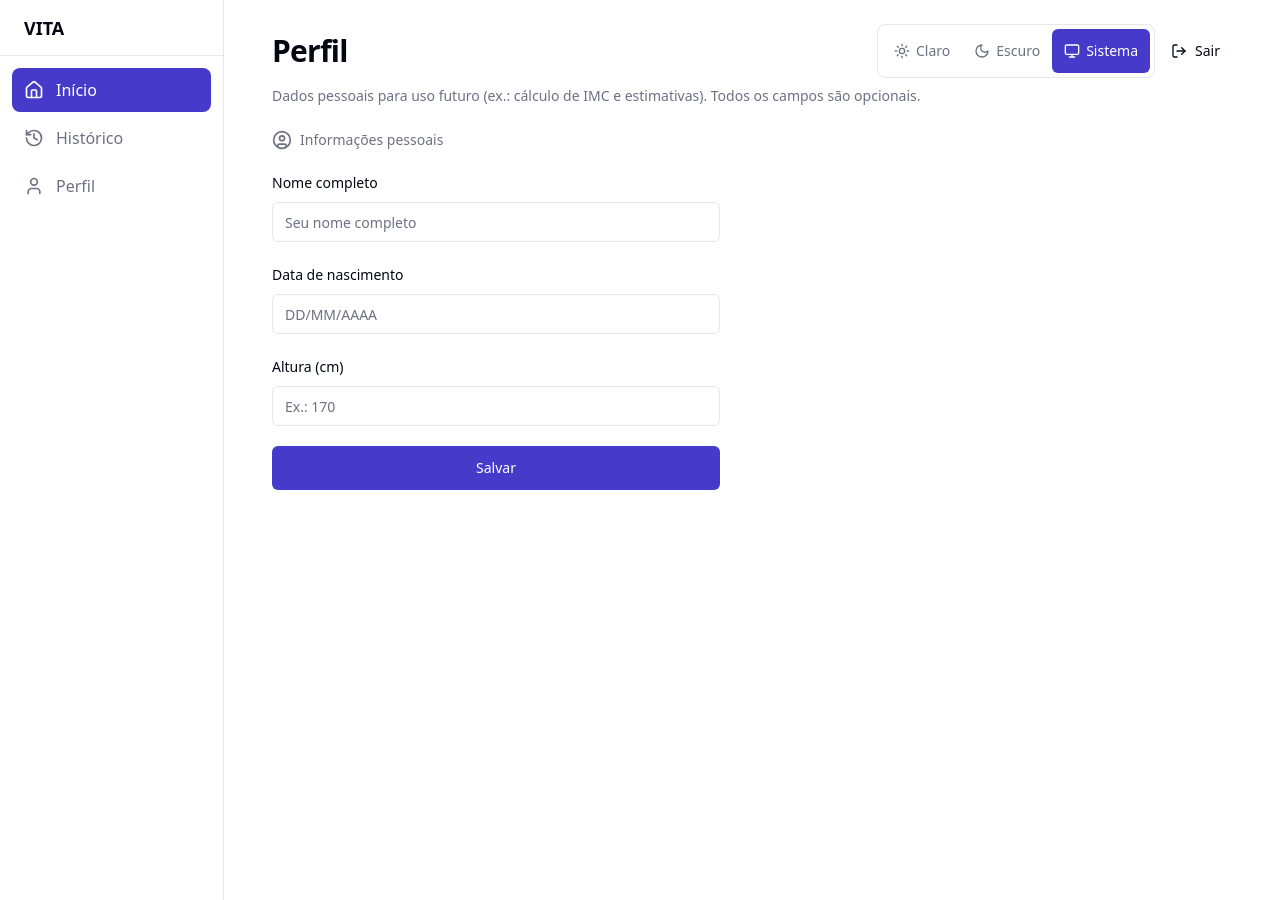
Profile › aplica mascara no campo data de nascimento e valida formato incorreto
The image size is (1280, 900).
Type "13021988" into the field labelled "Data de nascimento".
click(496, 314); type("13021988")  # box top-left (272, 294), bottom-right (720, 334)
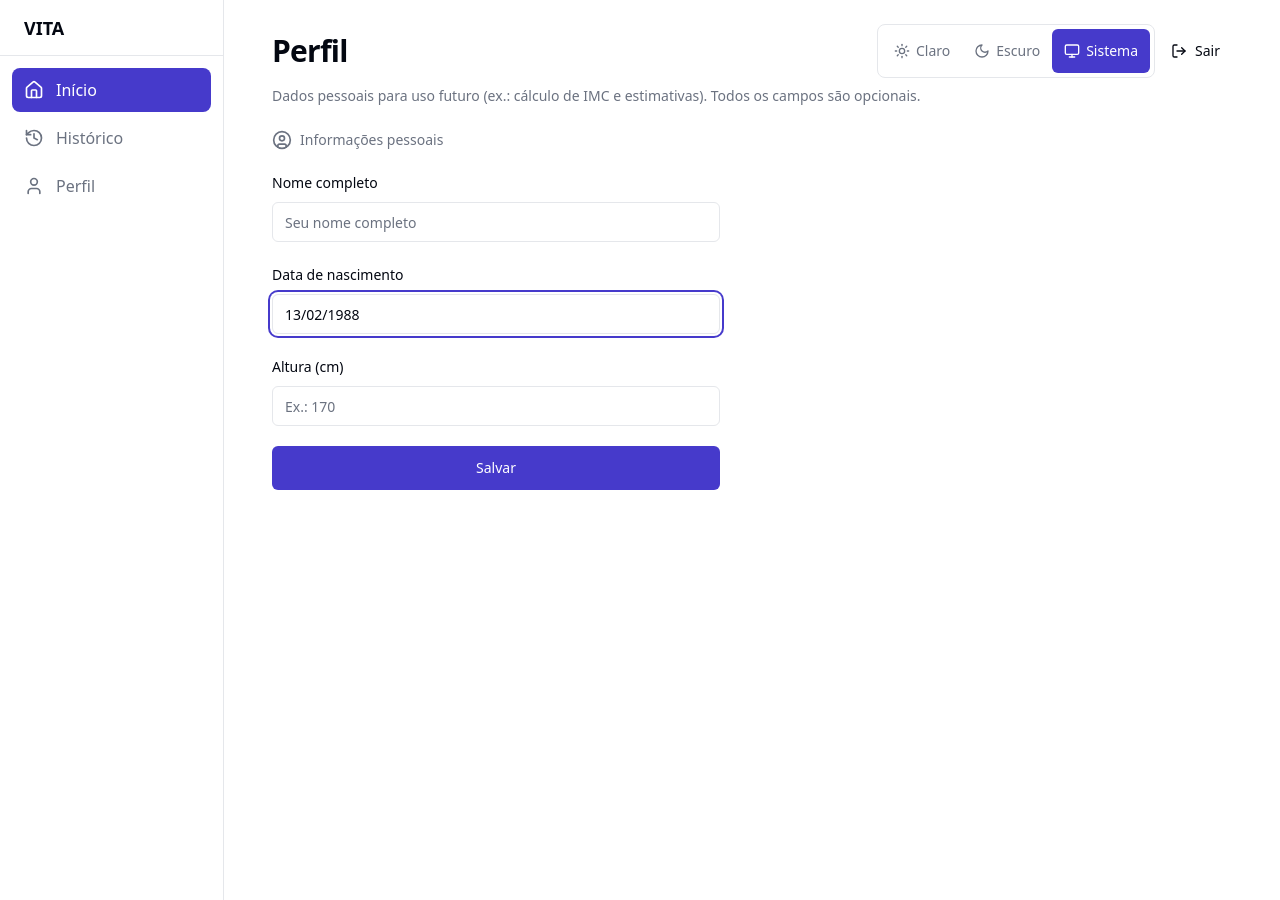
Result: the field labelled "Data de nascimento" holds "13/02/1988"
# Limpa e digita data incorreta
Replace the text in the field labelled "Data de nascimento" with "1302198" at (496,314), box top-left (272, 294), bottom-right (720, 334)
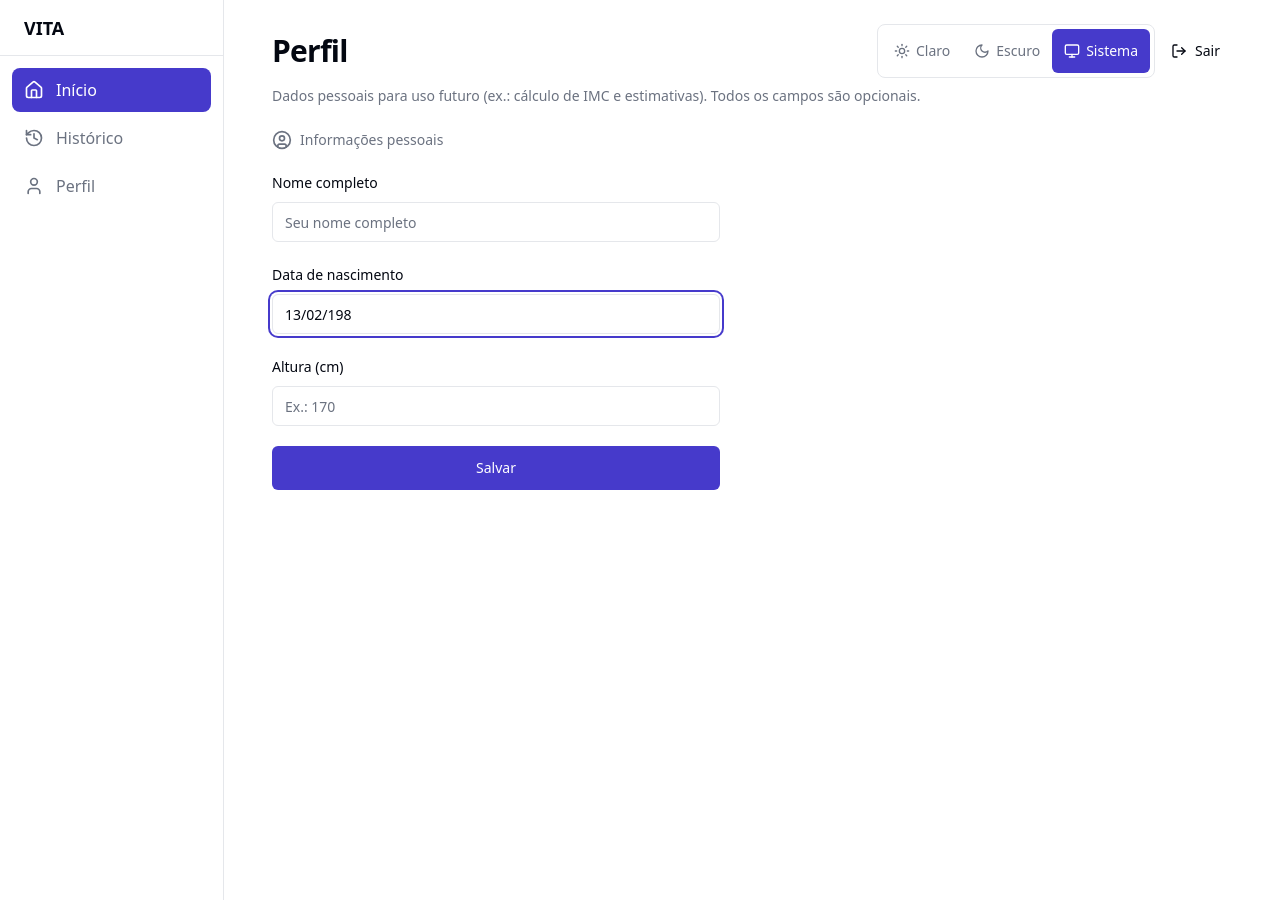
Result: the field labelled "Data de nascimento" holds "13/02/198" at top-left (272, 294), bottom-right (720, 334)
Click the button "Salvar".
click(496, 468)  # box top-left (272, 446), bottom-right (720, 490)
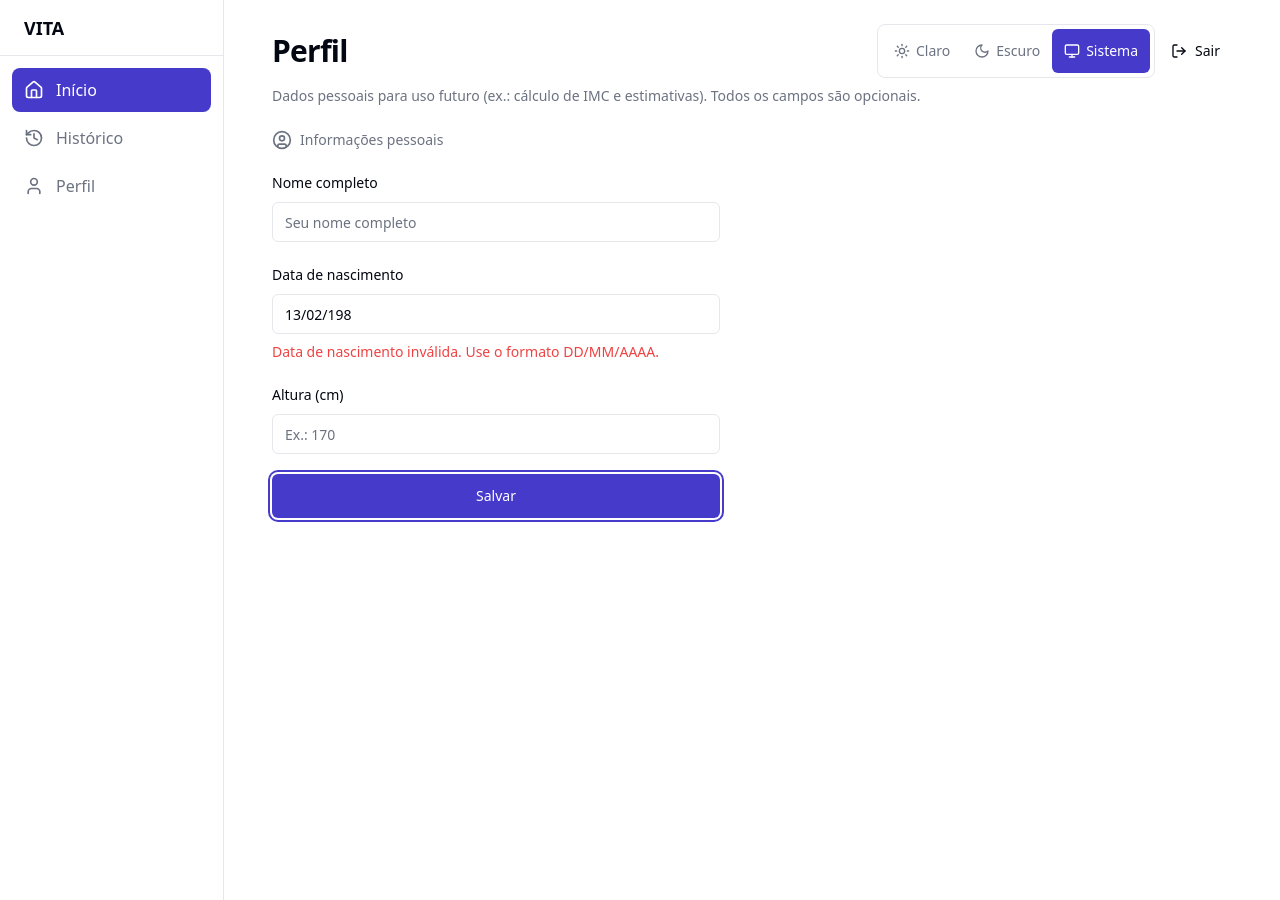
Result: the text "Data de nascimento inválida. Use o formato DD/MM/AAAA." is shown at top-left (272, 342), bottom-right (720, 362)
